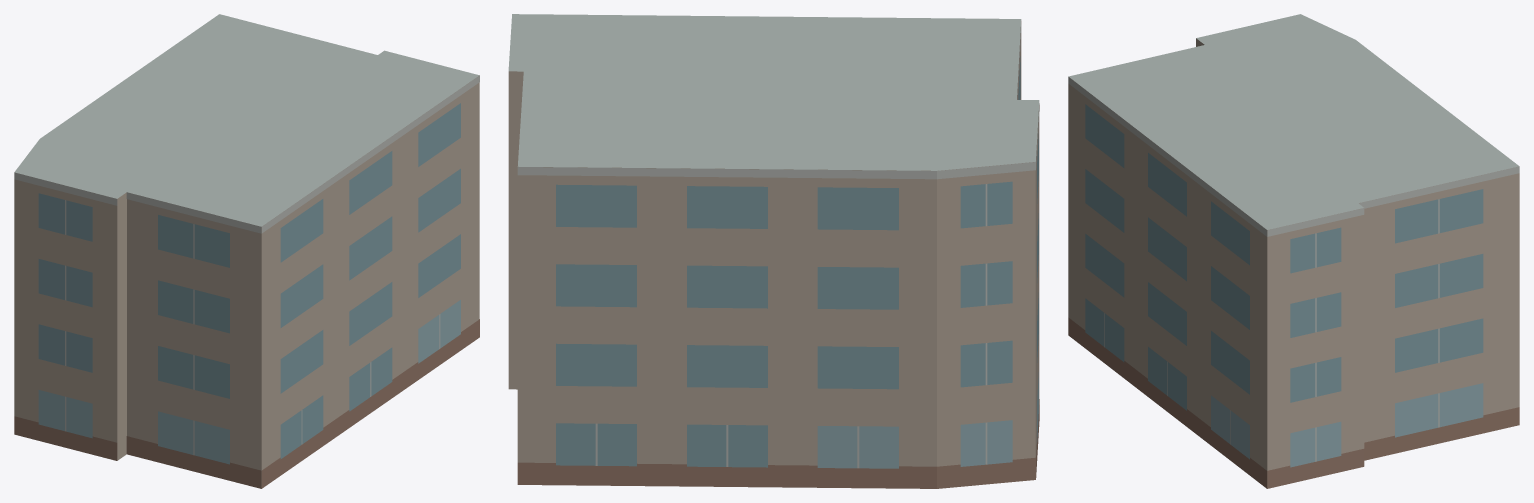
The model's file is survey-upis-32586982.glb.
3 views of the same model, side by side, from view 1: azimuth 30°, elevation 25°; view 2: azimuth 150°, elevation 25°; view 3: azimuth 270°, elevation 25° (orthographic). The views are drawn at different scales.
Parts seen in each view (by area): view 1: survey-upis-32586982.tmp; view 2: survey-upis-32586982.tmp; view 3: survey-upis-32586982.tmp.
Part boxes in pixels (left/top/right/bottom): survey-upis-32586982.tmp: left=14, top=14, right=479, bottom=488; survey-upis-32586982.tmp: left=508, top=14, right=1039, bottom=488; survey-upis-32586982.tmp: left=1068, top=14, right=1519, bottom=488.
Bounding box in the file's own units: 16.49 × 9.2 × 14.55.
